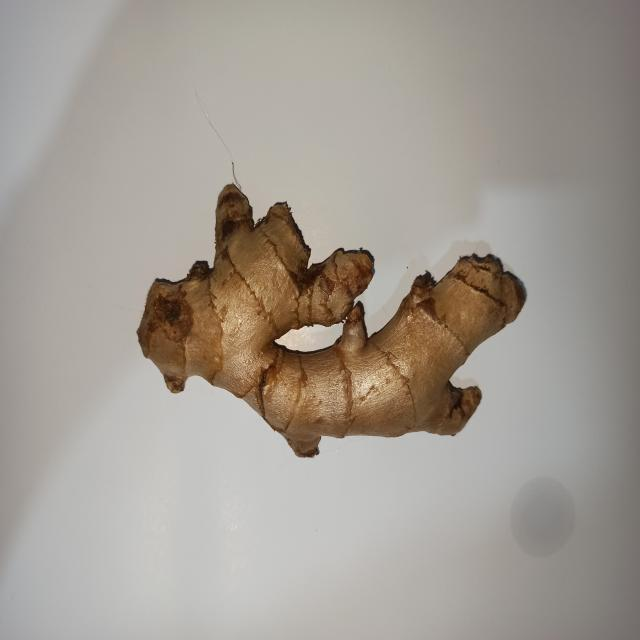ginger: (144, 200, 516, 456)
